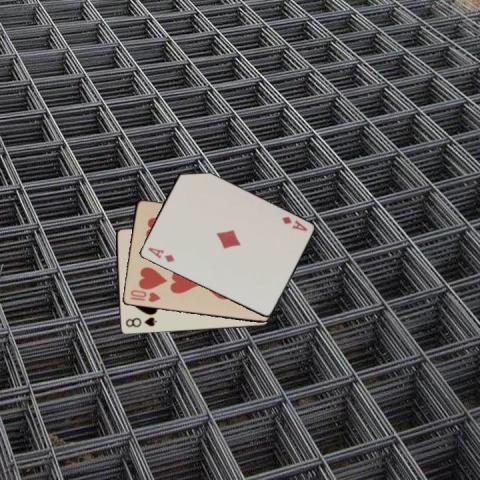10h: (127, 287, 162, 304)
8s: (123, 314, 158, 328)
Ad: (278, 213, 308, 233), (145, 245, 175, 264)
